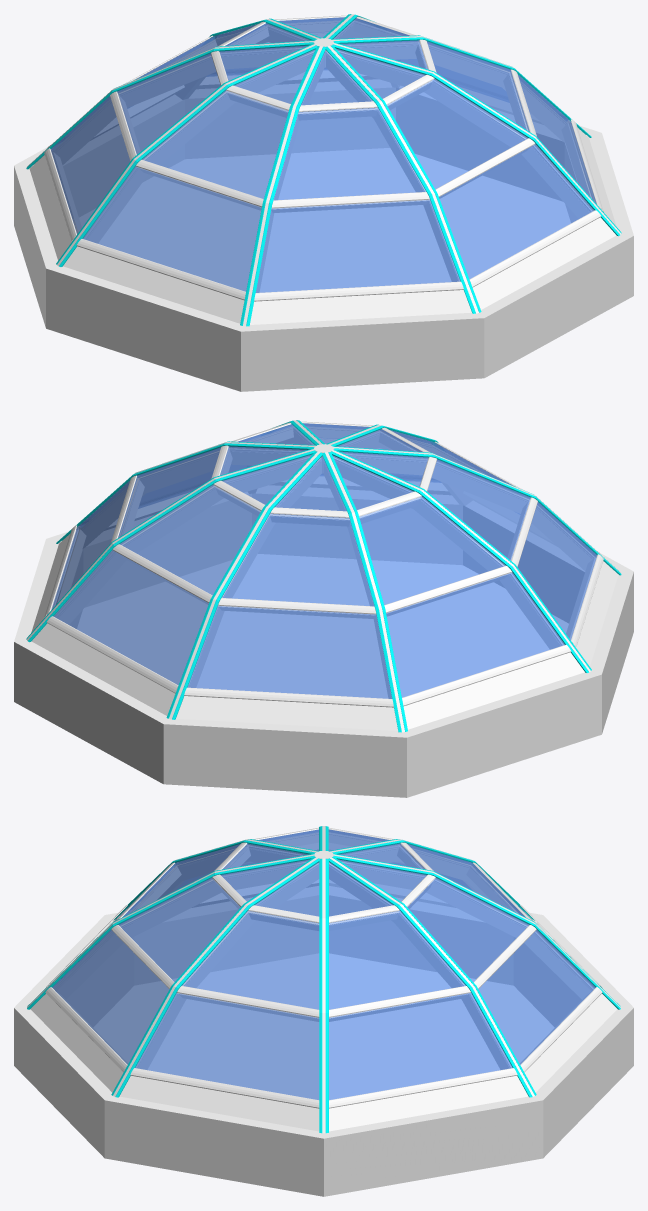
The model's file is glass dome.fbx.
The picture shows the model from 3 angles, top to bottom: view 1: azimuth 30°, elevation 25°; view 2: azimuth 150°, elevation 25°; view 3: azimuth 270°, elevation 25°; orthographic projection. The views are drawn at different scales.
Parts seen in each view (by area): view 1: Group_001, Группа#44_003, Группа#44_008, Группа#44_001, Компонент#25_003, Компонент#25_008, Компонент#25_001, Группа#44_007, Group_043, Компонент#25_007, Group_113, Group_015 (+54 smaller); view 2: Group_001, Группа#44_006, Группа#44_007, Группа#44_005, Компонент#25_006, Компонент#25_007, Компонент#25_005, Группа#44_008, Group_085, Компонент#25_008, Group_099, Group_071 (+54 smaller); view 3: Group_001, Группа#44_002, Группа#44_004, Компонент#25_002, Компонент#25_004, Группа#44_001, Группа#44_005, Компонент#25_001, Компонент#25_005, Group_029, Group_057, Group_015 (+48 smaller).
Boxes of the visible parts, bbox=[...] form: Group_001: bbox=[14, 79, 633, 391]; Группа#44_003: bbox=[256, 199, 460, 292]; Группа#44_008: bbox=[83, 166, 261, 291]; Группа#44_001: bbox=[439, 144, 594, 279]; Компонент#25_003: bbox=[273, 107, 425, 200]; Компонент#25_008: bbox=[142, 90, 288, 198]; Компонент#25_001: bbox=[387, 79, 528, 189]; Группа#44_007: bbox=[50, 96, 130, 234]; Group_043: bbox=[250, 290, 471, 324]; Компонент#25_007: bbox=[117, 53, 220, 154]; Group_113: bbox=[63, 246, 244, 323]; Group_015: bbox=[473, 217, 616, 309]; Group_001: bbox=[14, 485, 633, 797]; Группа#44_006: bbox=[187, 605, 392, 698]; Группа#44_007: bbox=[386, 572, 564, 697]; Группа#44_005: bbox=[53, 550, 208, 685]; Компонент#25_006: bbox=[222, 513, 375, 609]; Компонент#25_007: bbox=[359, 496, 505, 604]; Компонент#25_005: bbox=[120, 485, 260, 595]; Группа#44_008: bbox=[517, 502, 597, 640]; Group_085: bbox=[176, 696, 398, 730]; Компонент#25_008: bbox=[427, 459, 530, 560]; Group_099: bbox=[403, 652, 584, 729]; Group_071: bbox=[31, 623, 175, 715]; Group_001: bbox=[14, 886, 633, 1196]; Группа#44_002: bbox=[135, 993, 319, 1099]; Группа#44_004: bbox=[329, 992, 512, 1099]; Компонент#25_002: bbox=[182, 910, 319, 1009]; Компонент#25_004: bbox=[329, 910, 465, 1009]; Группа#44_001: bbox=[52, 930, 169, 1064]; Группа#44_005: bbox=[478, 930, 595, 1064]; Компонент#25_001: bbox=[118, 878, 240, 981]; Компонент#25_005: bbox=[407, 878, 529, 981]; Group_029: bbox=[119, 1075, 319, 1131]; Group_057: bbox=[329, 1075, 528, 1131]; Group_015: bbox=[30, 994, 124, 1092].
Bounding box in the file's own units: 190 × 71.41 × 190.
